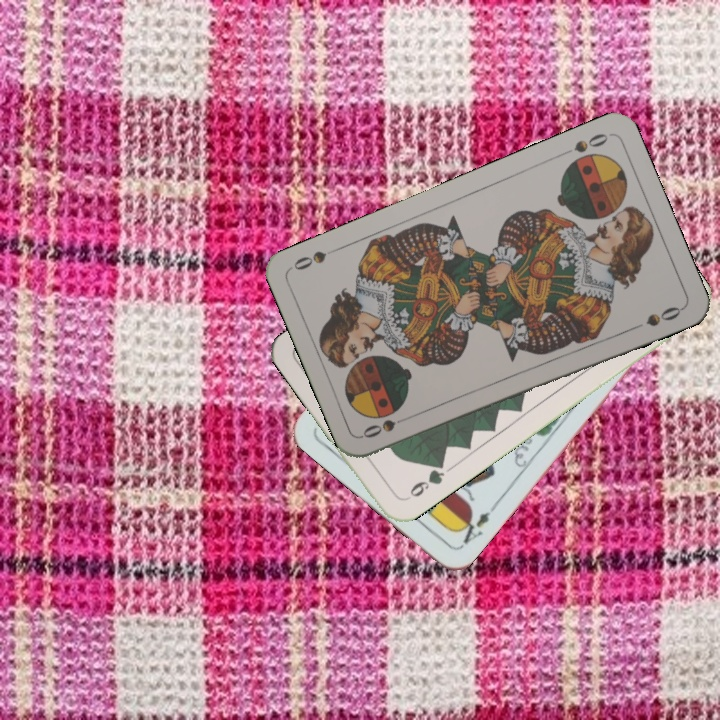EA: (451, 500, 499, 550)
G9: (400, 457, 448, 503)
SO: (358, 411, 416, 441), (556, 129, 611, 159)
